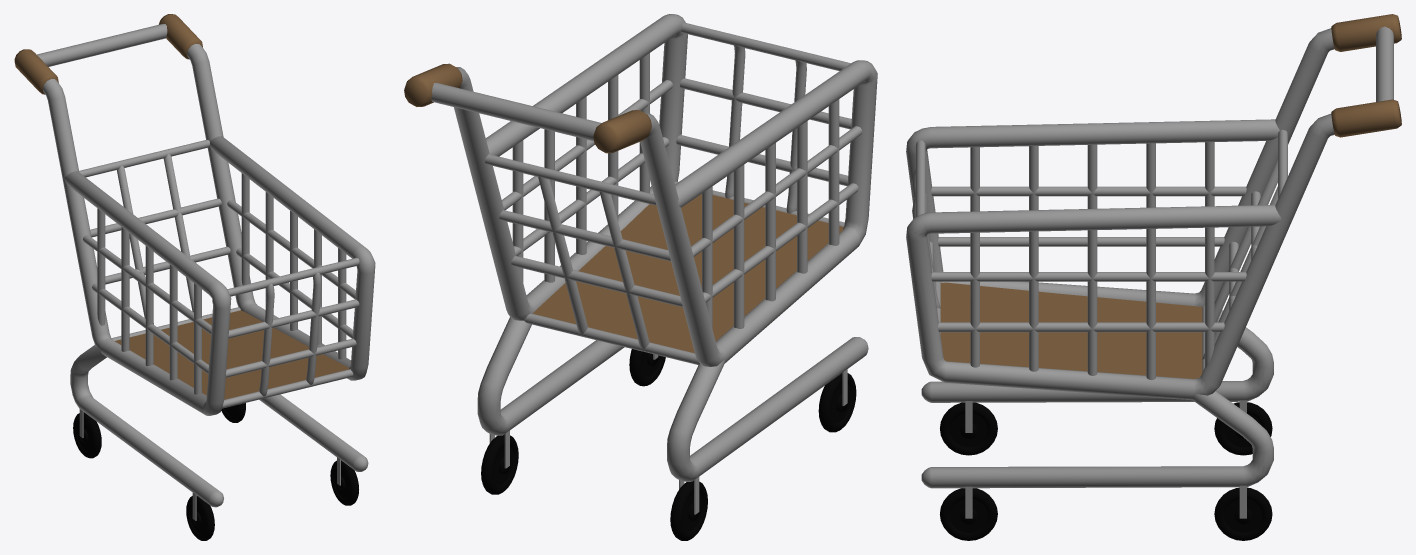
The model's file is tuiche.FBX.
3 renders of one model, left to right at view 1: azimuth 30°, elevation 25°; view 2: azimuth 150°, elevation 25°; view 3: azimuth 270°, elevation 25°, orthographic. The views are drawn at different scales.
Visible parts, largest first — view 1: tuiche; view 2: tuiche; view 3: tuiche.
Part boxes in pixels (box(x1,y1,x2,y2)): tuiche: box(14, 14, 375, 540); tuiche: box(404, 14, 877, 540); tuiche: box(906, 14, 1401, 540).
Size of the model in its own units: 457 by 960 by 981.
